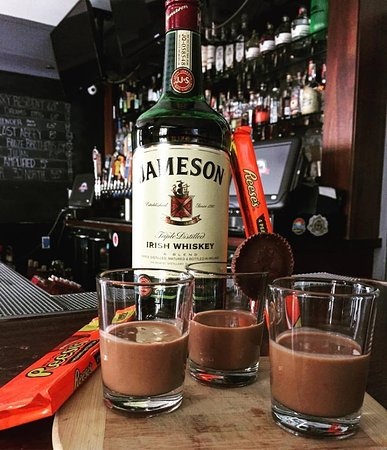Jameson: (126, 1, 234, 330)
